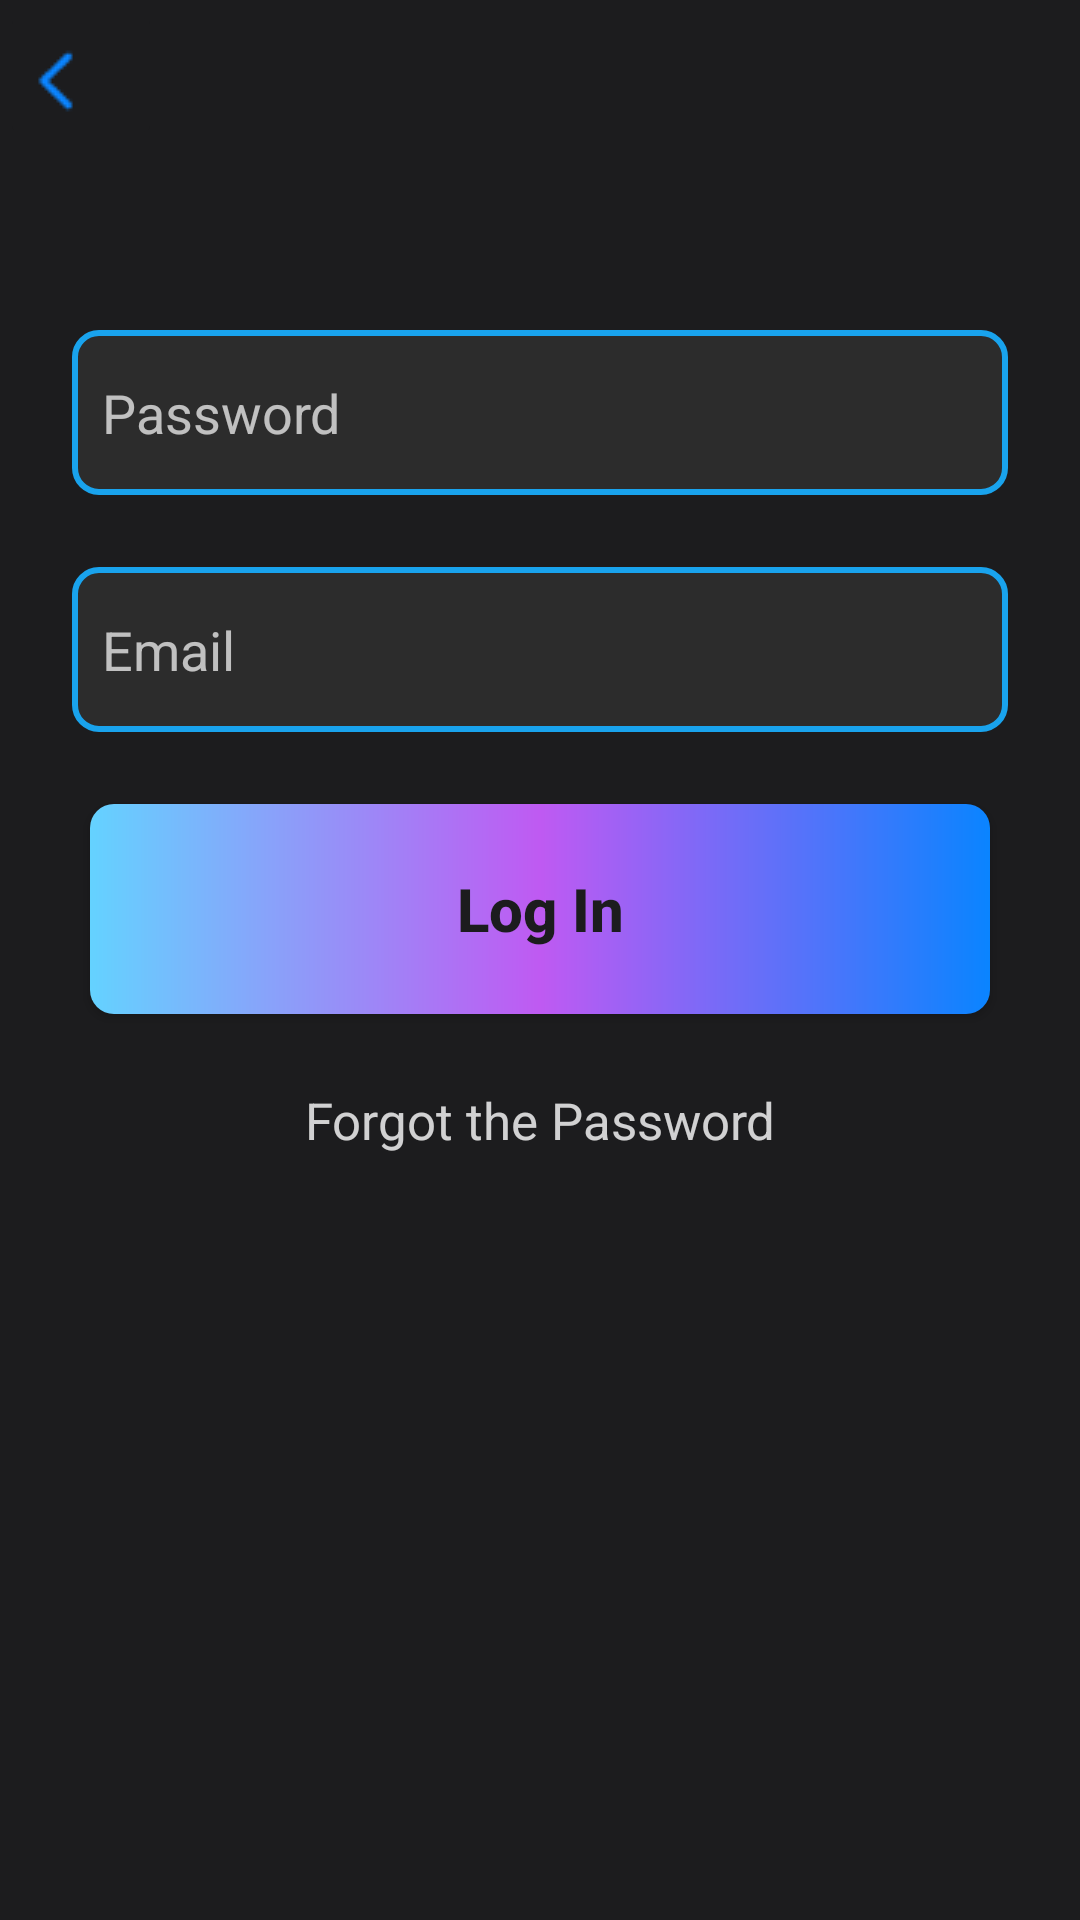

Named icons in this screenshot (1080 x 1920) and their bounding boxes, [x1=x1, y1=y1, x2=x2, y2=y2]:
back: [x1=38, y1=51, x2=73, y2=111]
